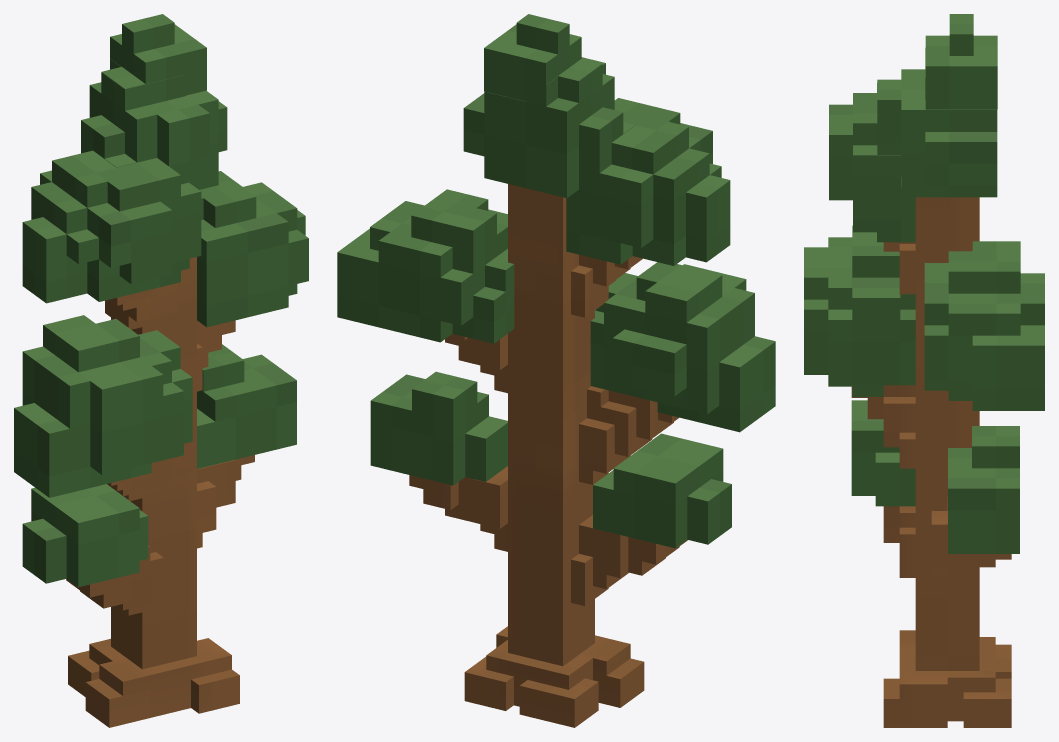
File: SM_VMF_Nature_Tree_Tall.fbx
3 views of the same model, side by side, from view 1: azimuth 30°, elevation 25°; view 2: azimuth 150°, elevation 25°; view 3: azimuth 270°, elevation 25° (orthographic).
Visible parts, largest first — view 1: SM_VMF_Nature_Tree_Tall_Canopy, SM_VMF_Nature_Tree_Tall_TrunkAndBranches; view 2: SM_VMF_Nature_Tree_Tall_Canopy, SM_VMF_Nature_Tree_Tall_TrunkAndBranches; view 3: SM_VMF_Nature_Tree_Tall_Canopy, SM_VMF_Nature_Tree_Tall_TrunkAndBranches.
Part boxes in pixels (x1,y1,x2,y2): SM_VMF_Nature_Tree_Tall_Canopy: [14, 14, 308, 587]; SM_VMF_Nature_Tree_Tall_TrunkAndBranches: [66, 257, 254, 727]; SM_VMF_Nature_Tree_Tall_Canopy: [337, 14, 775, 548]; SM_VMF_Nature_Tree_Tall_TrunkAndBranches: [409, 184, 687, 727]; SM_VMF_Nature_Tree_Tall_Canopy: [804, 14, 1044, 553]; SM_VMF_Nature_Tree_Tall_TrunkAndBranches: [851, 197, 1011, 727].
Size of the model in its own units: 192 by 373 by 120.
Materials: 1 (1 with a texture image).
